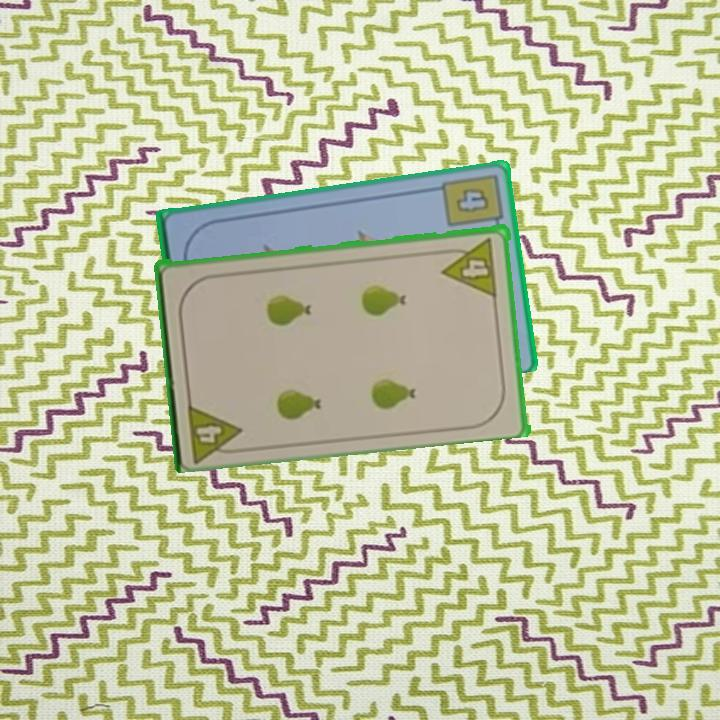4b: (438, 169, 505, 233)
4p: (184, 397, 247, 462), (438, 233, 500, 299)
